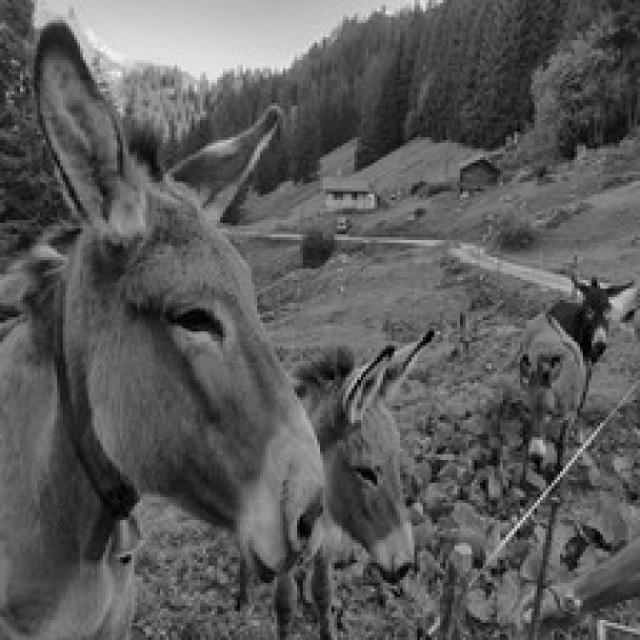Donkey: (0, 17, 326, 637), (232, 326, 434, 637), (514, 272, 634, 477)
